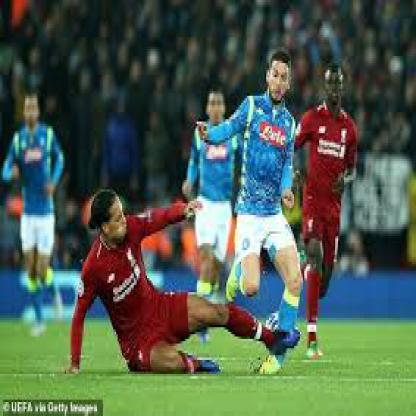Fall_Down: (64, 191, 301, 379)
